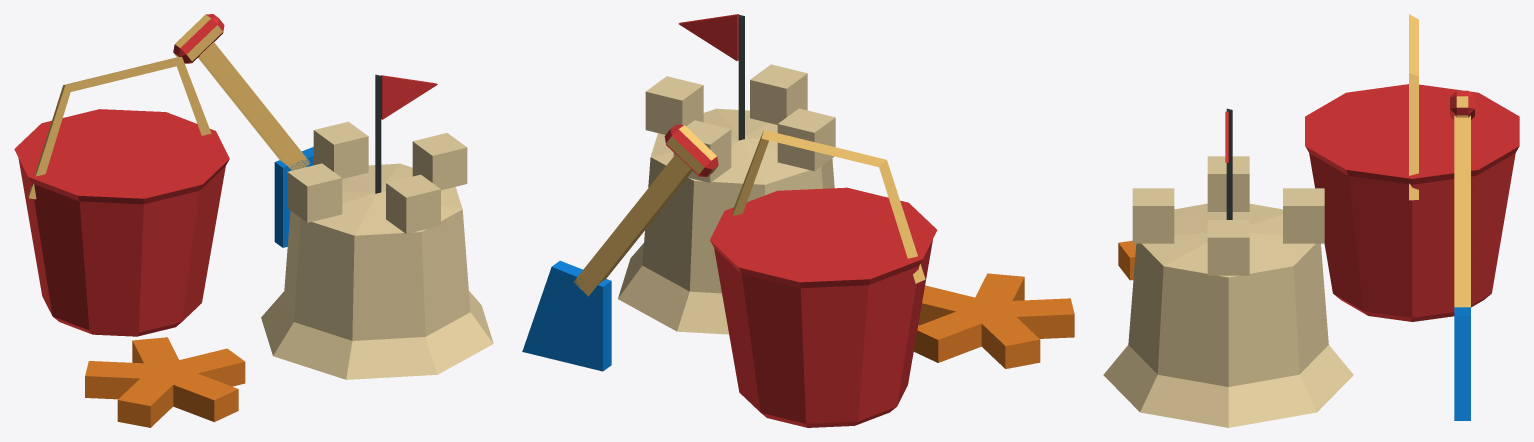
Rendered from sandeimer.glb.
The picture shows the model from 3 angles, left to right: view 1: azimuth 30°, elevation 25°; view 2: azimuth 150°, elevation 25°; view 3: azimuth 270°, elevation 25°; orthographic projection. The views are drawn at different scales.
Parts seen in each view (by area): view 1: sandeimer-m; view 2: sandeimer-m; view 3: sandeimer-m.
Boxes of the visible parts, box(x1,y1,x2,y2) form: sandeimer-m: box(14, 14, 493, 427); sandeimer-m: box(522, 14, 1074, 427); sandeimer-m: box(1103, 14, 1519, 427).
Bounding box in the file's own units: 0.5641 × 0.35 × 0.4984.
